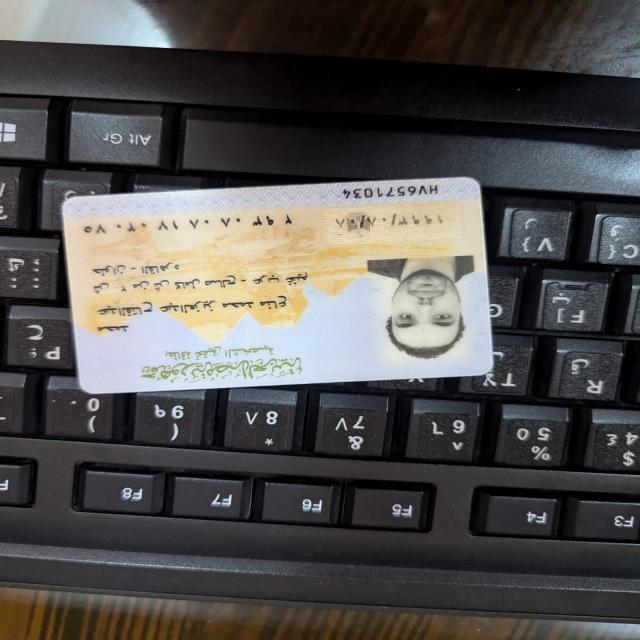id_card: (50, 167, 500, 399)
